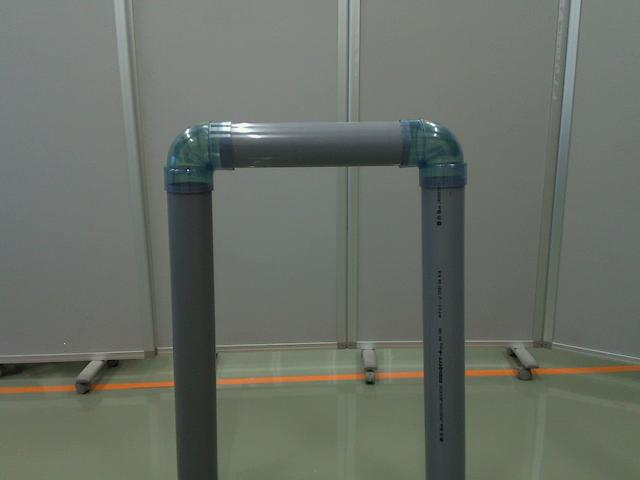bent: (164, 121, 238, 196), (401, 117, 468, 188)
